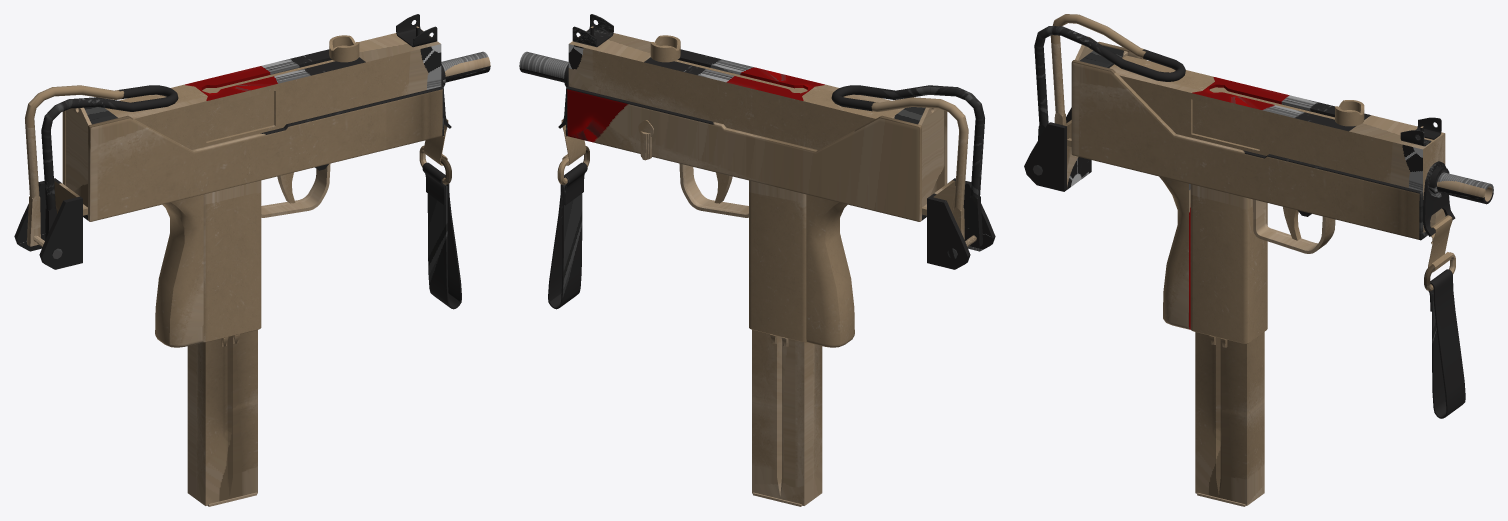
Rendered from mac10.fbx.
The picture shows the model from 3 angles, left to right: view 1: azimuth 30°, elevation 25°; view 2: azimuth 150°, elevation 25°; view 3: azimuth 330°, elevation 25°; orthographic projection.
Parts seen in each view (by area): view 1: mac10; view 2: mac10; view 3: mac10.
Boxes of the visible parts, x1,y1,x2,y2 form: mac10: (14, 14, 490, 506); mac10: (519, 14, 995, 506); mac10: (1024, 14, 1493, 506).
Bounding box in the file's own units: 151 × 139 × 17.95.
